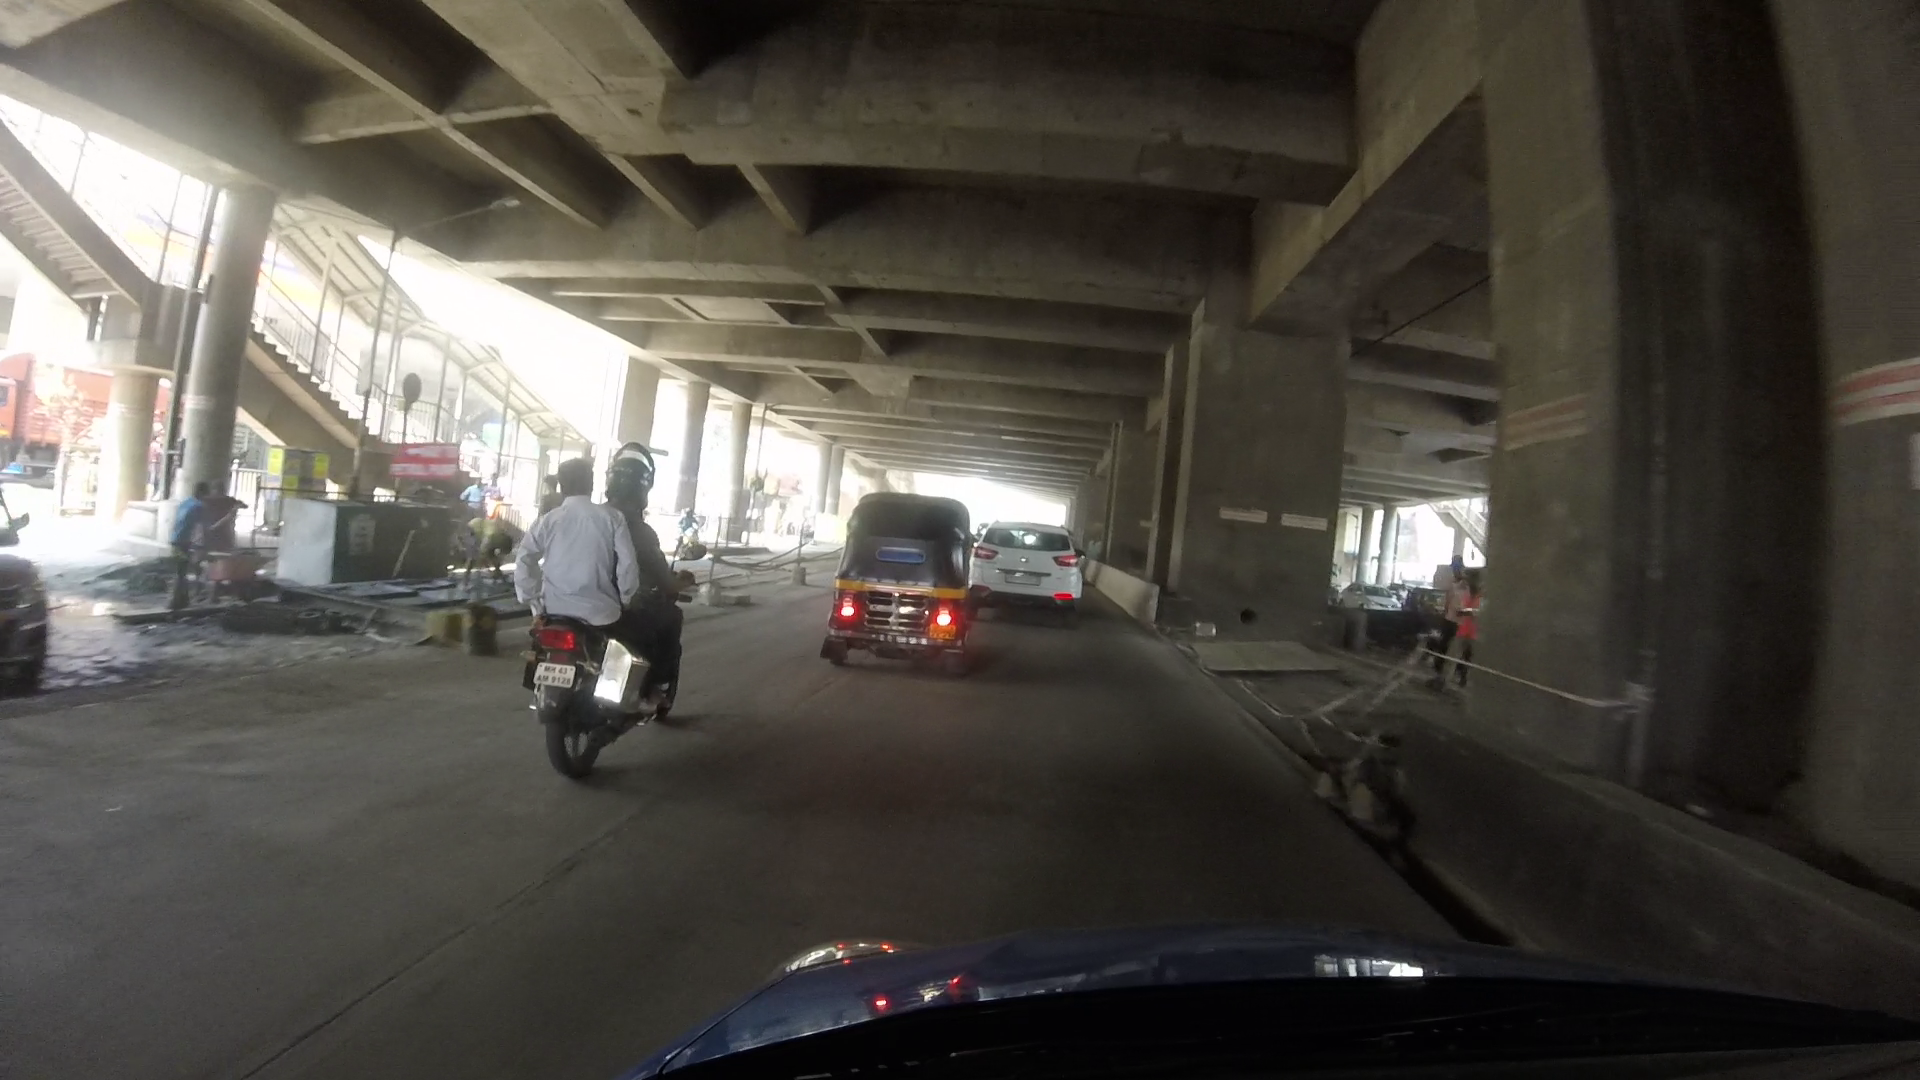bike/scooter: (480, 431, 738, 793)
car: (971, 504, 1100, 628)
rickshaw: (793, 454, 1007, 692)
